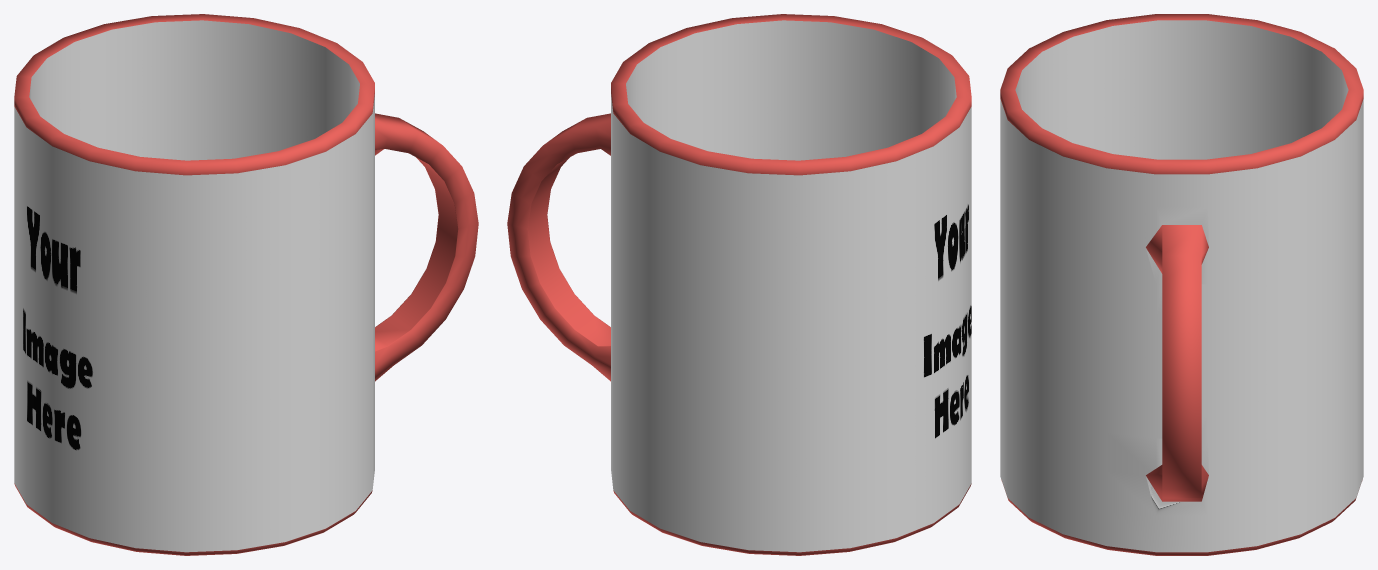
The model's file is mug_03.gltf.
3 views of the same model, side by side, from view 1: azimuth 30°, elevation 25°; view 2: azimuth 150°, elevation 25°; view 3: azimuth 270°, elevation 25° (orthographic).
Parts seen in each view (by area): view 1: Body, Handle, Rim, Base; view 2: Body, Handle, Rim, Base; view 3: Body, Handle, Rim, Base.
Boxes of the visible parts, x1,y1,x2,y2 form: Body: [14, 20, 374, 552]; Handle: [375, 113, 478, 381]; Rim: [14, 14, 374, 175]; Base: [14, 483, 372, 555]; Body: [611, 20, 971, 552]; Handle: [507, 113, 610, 381]; Rim: [611, 14, 971, 175]; Base: [613, 483, 971, 555]; Body: [1000, 20, 1363, 552]; Handle: [1146, 225, 1208, 501]; Rim: [1000, 14, 1363, 174]; Base: [1001, 480, 1362, 555].
Bounding box in the file's own units: 0.1149 × 0.1 × 0.084.
Materials: 4 (1 with a texture image).
